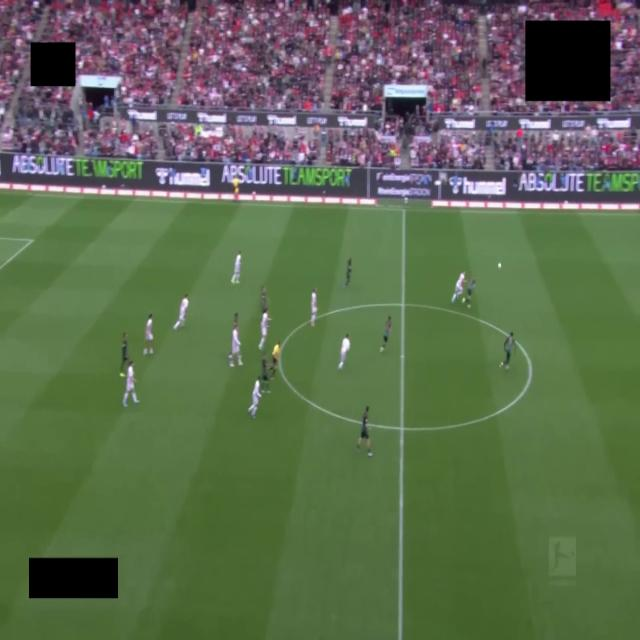ball: (498, 263, 501, 268)
player: (357, 407, 372, 456), (123, 360, 138, 407), (173, 295, 188, 330), (248, 378, 261, 418), (500, 332, 514, 369), (230, 325, 242, 367), (452, 271, 466, 303), (143, 314, 153, 355), (338, 335, 350, 369), (259, 311, 269, 351), (380, 316, 391, 352), (462, 278, 475, 308), (120, 333, 128, 377), (231, 252, 241, 284), (310, 288, 318, 327), (262, 355, 270, 392), (344, 258, 351, 287), (261, 286, 267, 313), (233, 313, 238, 330)
referee: (271, 342, 280, 379)
